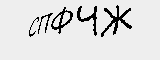Ж: (103, 5, 133, 36)
П: (37, 13, 50, 35)
С: (30, 13, 39, 36)
Ф: (50, 4, 73, 35)
Ч: (76, 2, 99, 38)
